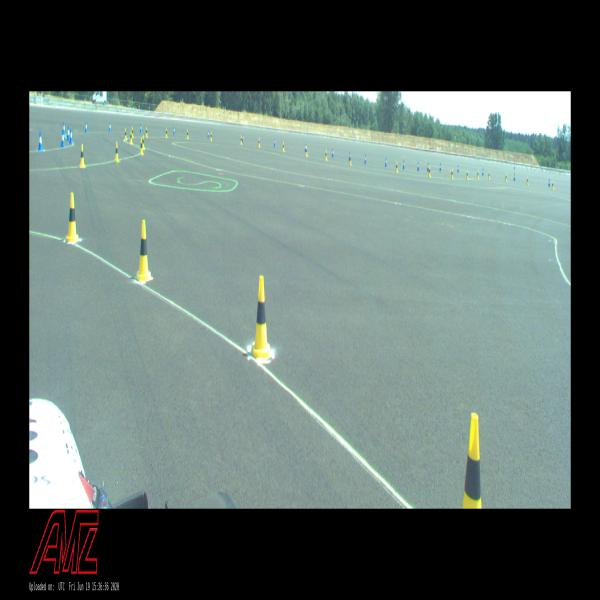blue_cone: (38, 132, 43, 151), (69, 128, 74, 145), (61, 130, 65, 148), (66, 126, 70, 140), (63, 122, 66, 136), (109, 121, 111, 132), (85, 122, 87, 132), (417, 162, 419, 172), (402, 160, 404, 170), (364, 154, 366, 164), (274, 138, 276, 147), (385, 158, 387, 167), (140, 124, 142, 133), (332, 149, 334, 158), (173, 127, 175, 135), (482, 168, 484, 176), (439, 163, 441, 171), (242, 134, 244, 142), (304, 144, 306, 152), (457, 165, 459, 172), (514, 173, 516, 180), (548, 179, 550, 186), (349, 151, 350, 161), (427, 163, 428, 172), (208, 130, 209, 138)
yellow_cone: (462, 413, 482, 509), (250, 276, 271, 361), (136, 220, 154, 281), (64, 192, 80, 242), (79, 144, 86, 168), (114, 142, 120, 162), (140, 137, 144, 154), (124, 128, 128, 141), (142, 135, 145, 149), (130, 131, 133, 144), (395, 162, 398, 173), (428, 166, 431, 177), (258, 138, 261, 148), (165, 128, 168, 138), (146, 126, 148, 138), (132, 127, 134, 138), (306, 146, 308, 157), (451, 169, 453, 179), (325, 150, 327, 160), (466, 170, 468, 180), (210, 132, 212, 142), (349, 155, 351, 165), (282, 142, 284, 151), (477, 169, 479, 178), (488, 171, 490, 179), (526, 177, 528, 185), (552, 181, 554, 189), (505, 174, 507, 182), (187, 129, 188, 138), (241, 136, 242, 144)
